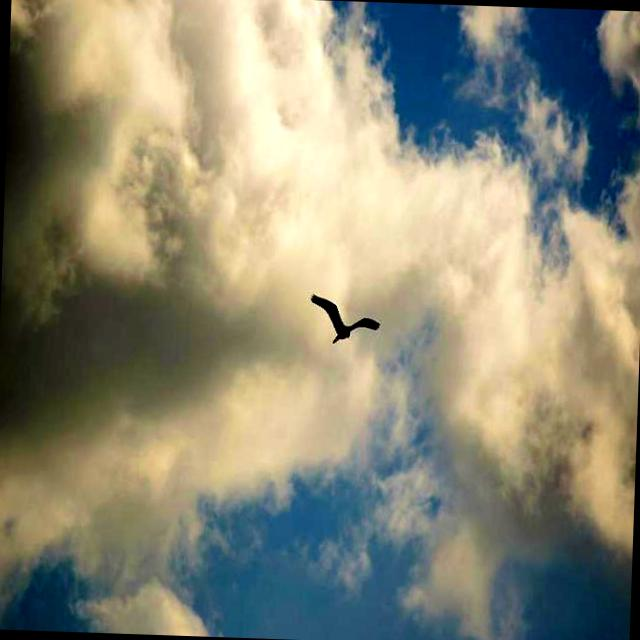bird: (307, 284, 382, 356)
